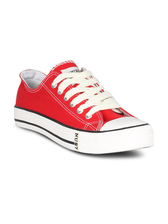shoes: (6, 59, 155, 151)
